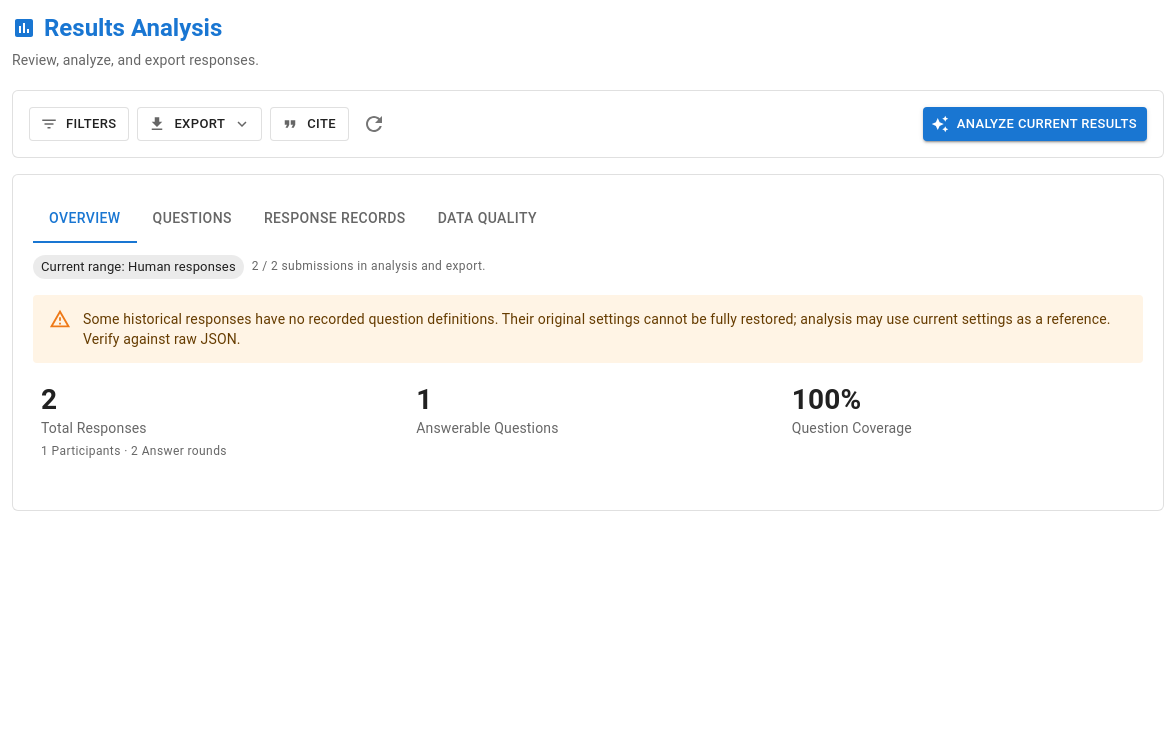
Scenario: records and quality have direct tabs and do not require expanding a section
Expected: the text "2 / 2 submissions in analysis and export." is shown, [252, 257, 486, 277]
Click the tab "Response records". click: x=335, y=219
box: [248, 195, 422, 243]
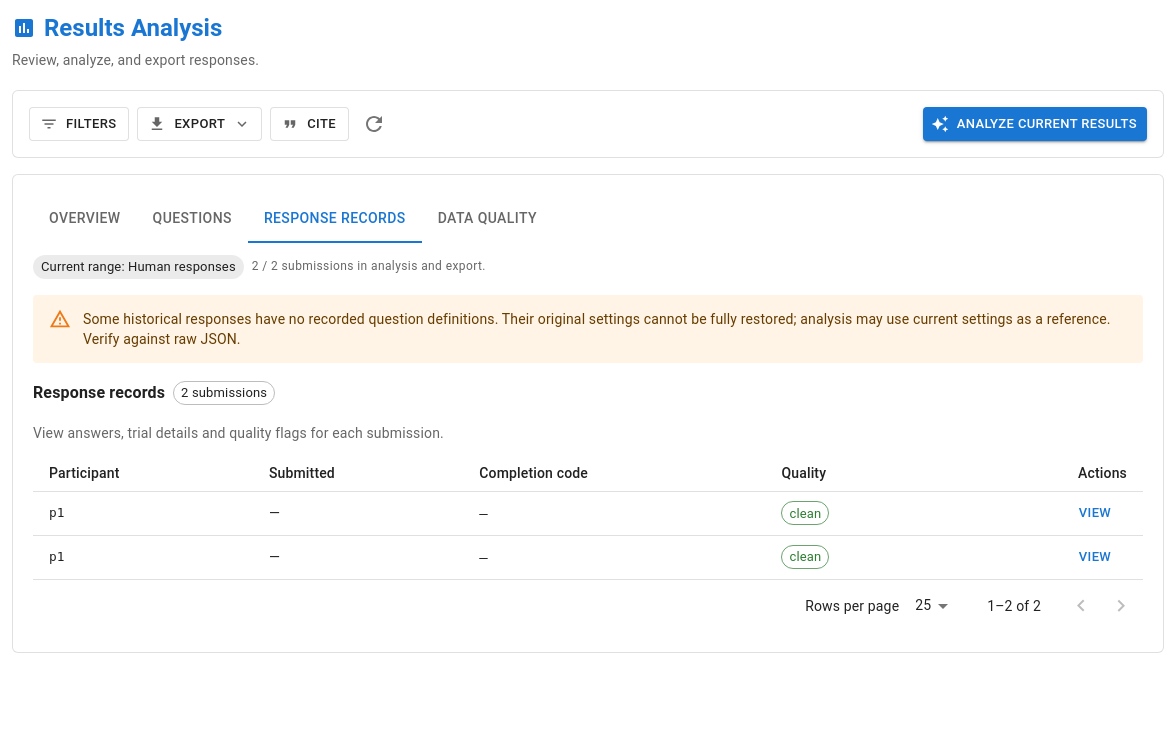
Expected: the number of buttons "View" is 2, [1063, 498, 1127, 529]; [1063, 542, 1127, 573]
Click the tab "Data Quality". click: x=487, y=219
box: [422, 195, 553, 243]
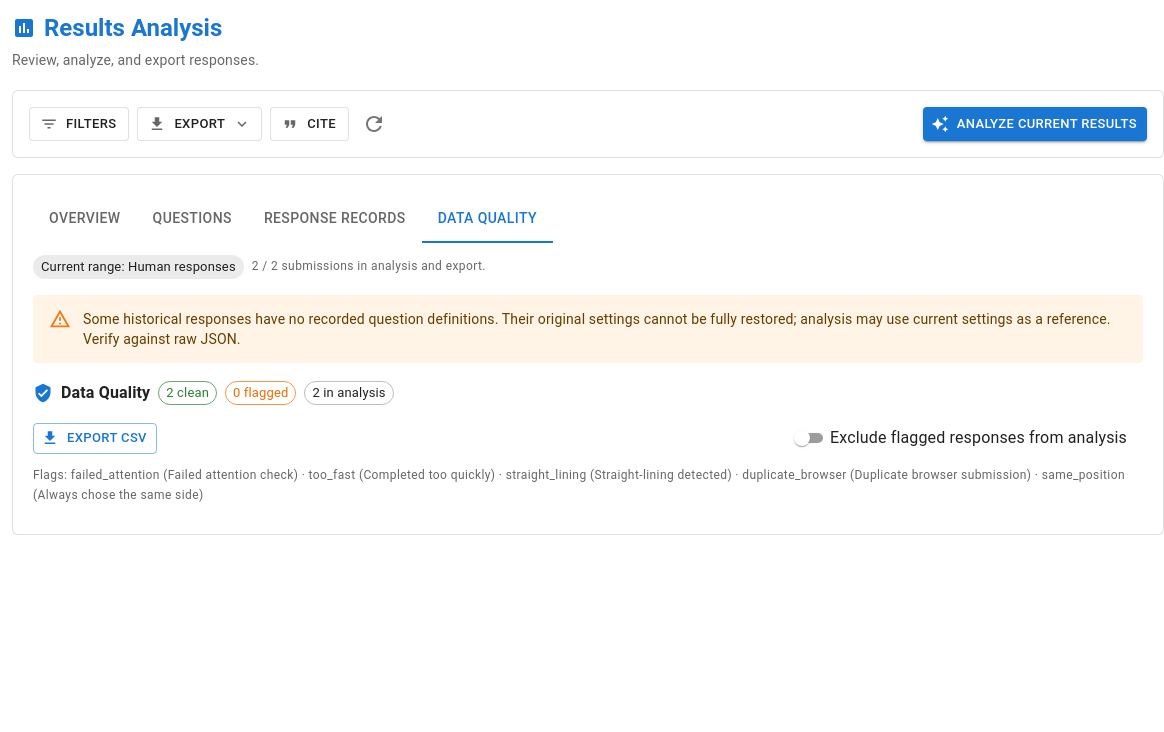
Expected: the button "Export CSV" is shown, [33, 423, 157, 454]
